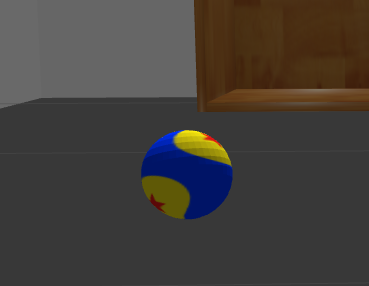toy story ball: (141, 130, 234, 220)
